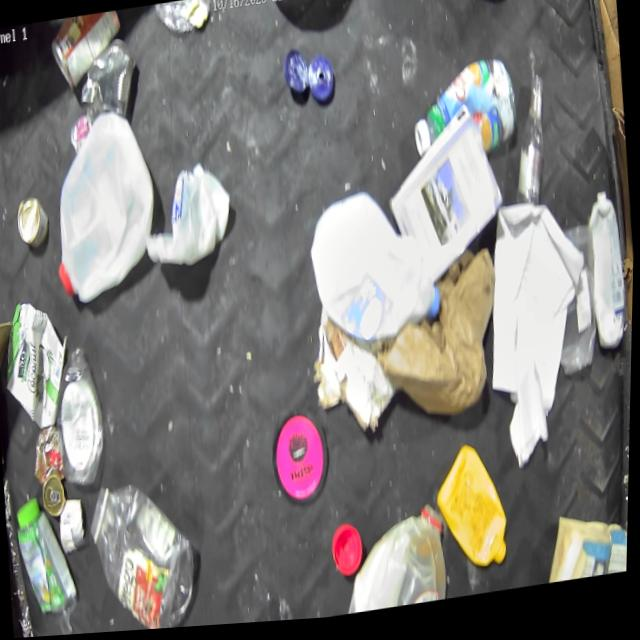can: (45, 10, 126, 93), (74, 36, 140, 124), (14, 191, 54, 252), (39, 460, 70, 519), (68, 114, 95, 157)
milk_jug: (303, 183, 447, 355), (44, 104, 164, 308), (337, 505, 454, 620), (139, 159, 237, 273), (584, 194, 633, 361)
non_white_jug: (431, 442, 514, 582)
